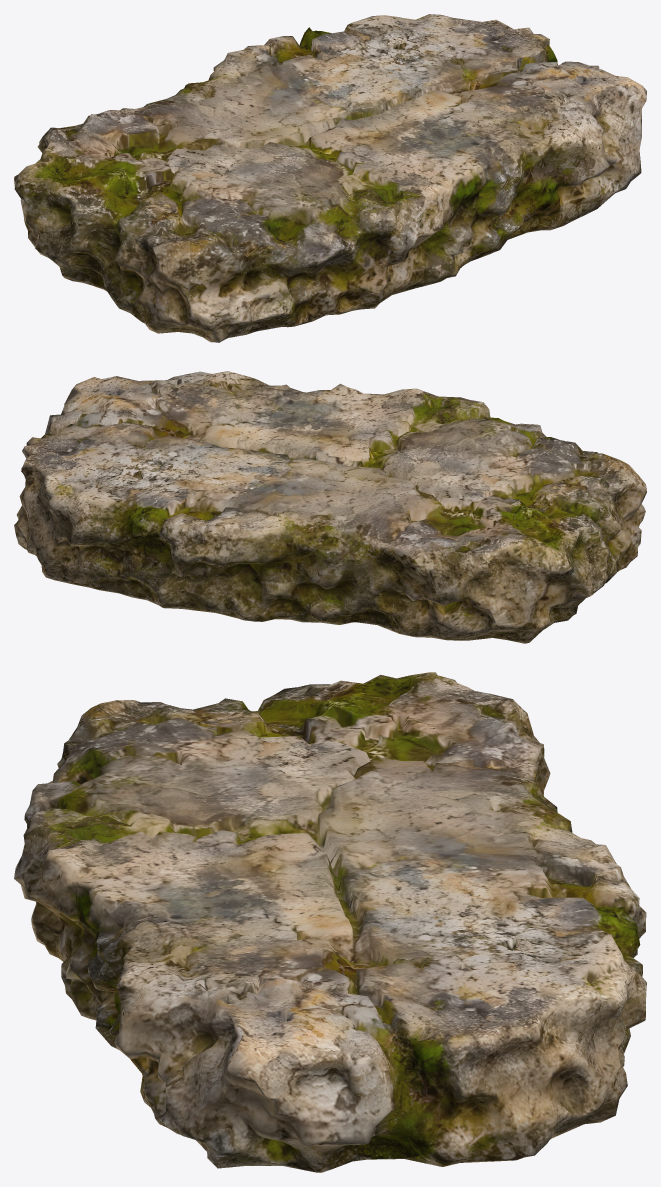
File: ROC_RocaPlana_01_LOD0.fbx
3 renders of one model, top to bottom at view 1: azimuth 30°, elevation 25°; view 2: azimuth 150°, elevation 25°; view 3: azimuth 270°, elevation 25°, orthographic. The views are drawn at different scales.
Parts seen in each view (by area): view 1: ROC_RocaPlana_01_Mesh000; view 2: ROC_RocaPlana_01_Mesh000; view 3: ROC_RocaPlana_01_Mesh000.
Part boxes in pixels (x1=…): ROC_RocaPlana_01_Mesh000: x1=14, y1=14, x2=646, y2=342; ROC_RocaPlana_01_Mesh000: x1=14, y1=371, x2=646, y2=643; ROC_RocaPlana_01_Mesh000: x1=14, y1=672, x2=646, y2=1172.
Bounding box in the file's own units: 2.2 × 0.3846 × 1.47.
